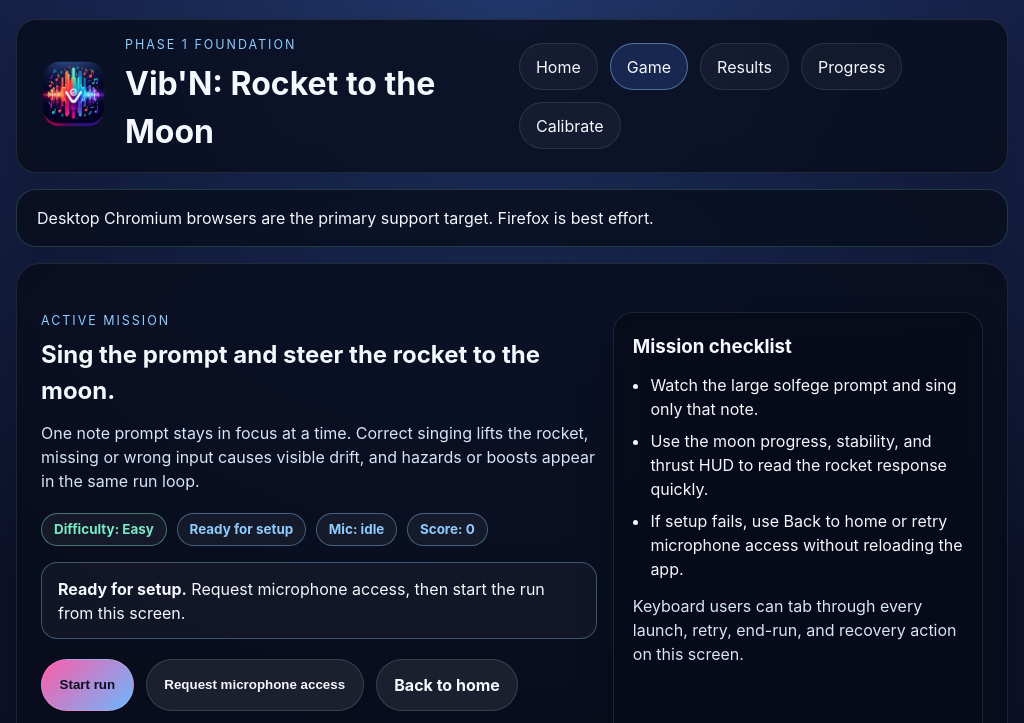
Test: Game screen HUD flow › renders the live playable HUD after starting a run
The image size is (1024, 723).
Click the button "Start run": click(87, 685) [41,659,134,711]
(page scrolled)
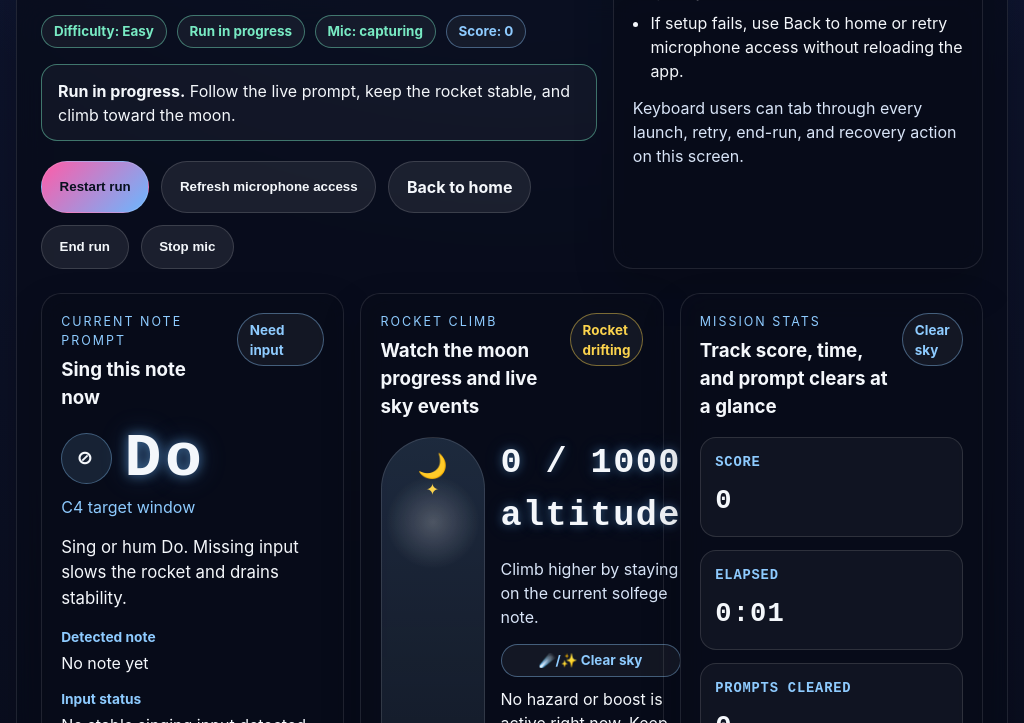
Expected: the heading "Track score, time, and prompt clears at a glance" is shown, [700,337,890,422]
Now the button "End run" is enabled, box [41,225,128,269]
